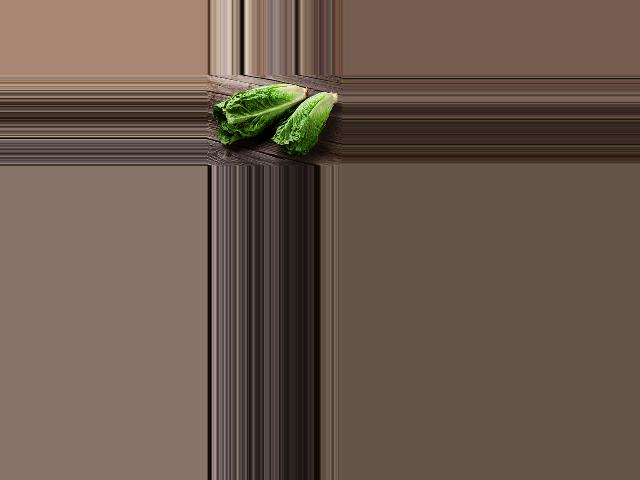lettuce: (270, 89, 342, 161)
